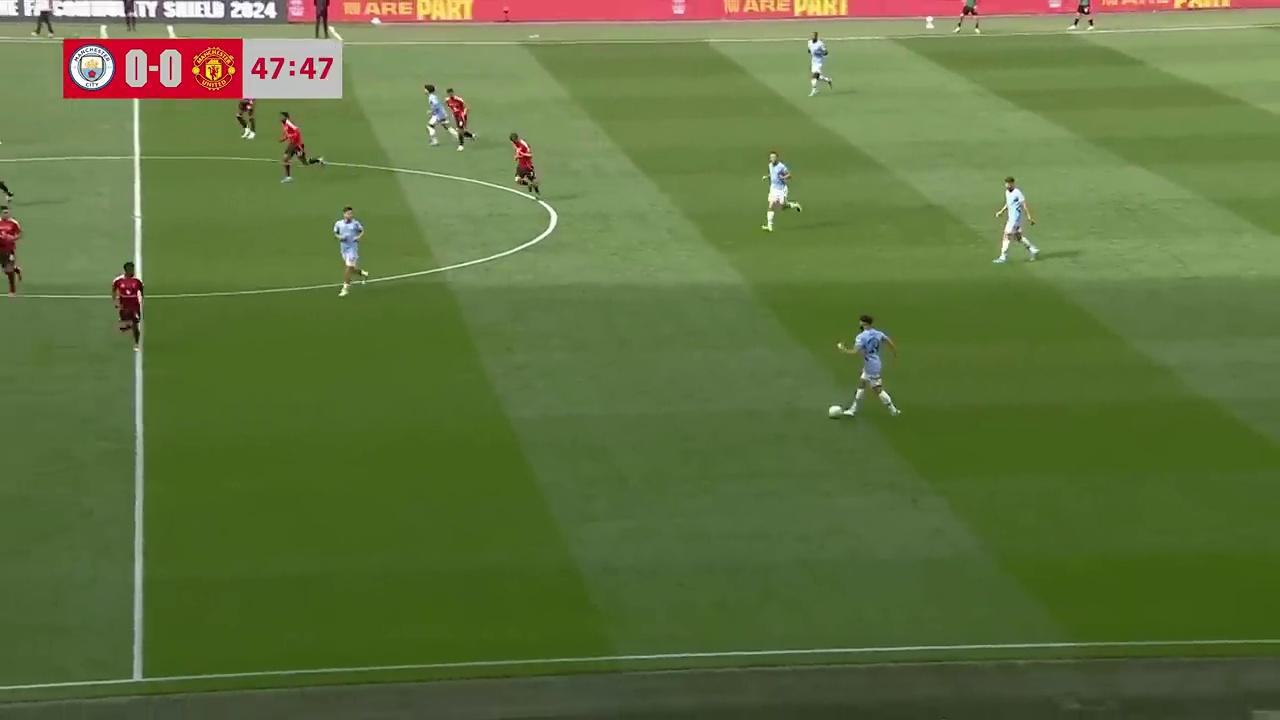ball: (825, 401, 844, 418)
player: (835, 314, 901, 417), (991, 187, 1039, 263), (332, 205, 367, 296), (760, 151, 799, 232), (279, 112, 322, 182), (110, 262, 143, 350), (508, 132, 540, 199), (0, 208, 23, 297), (443, 88, 475, 149), (422, 84, 453, 146), (807, 31, 832, 97), (235, 87, 256, 138)
